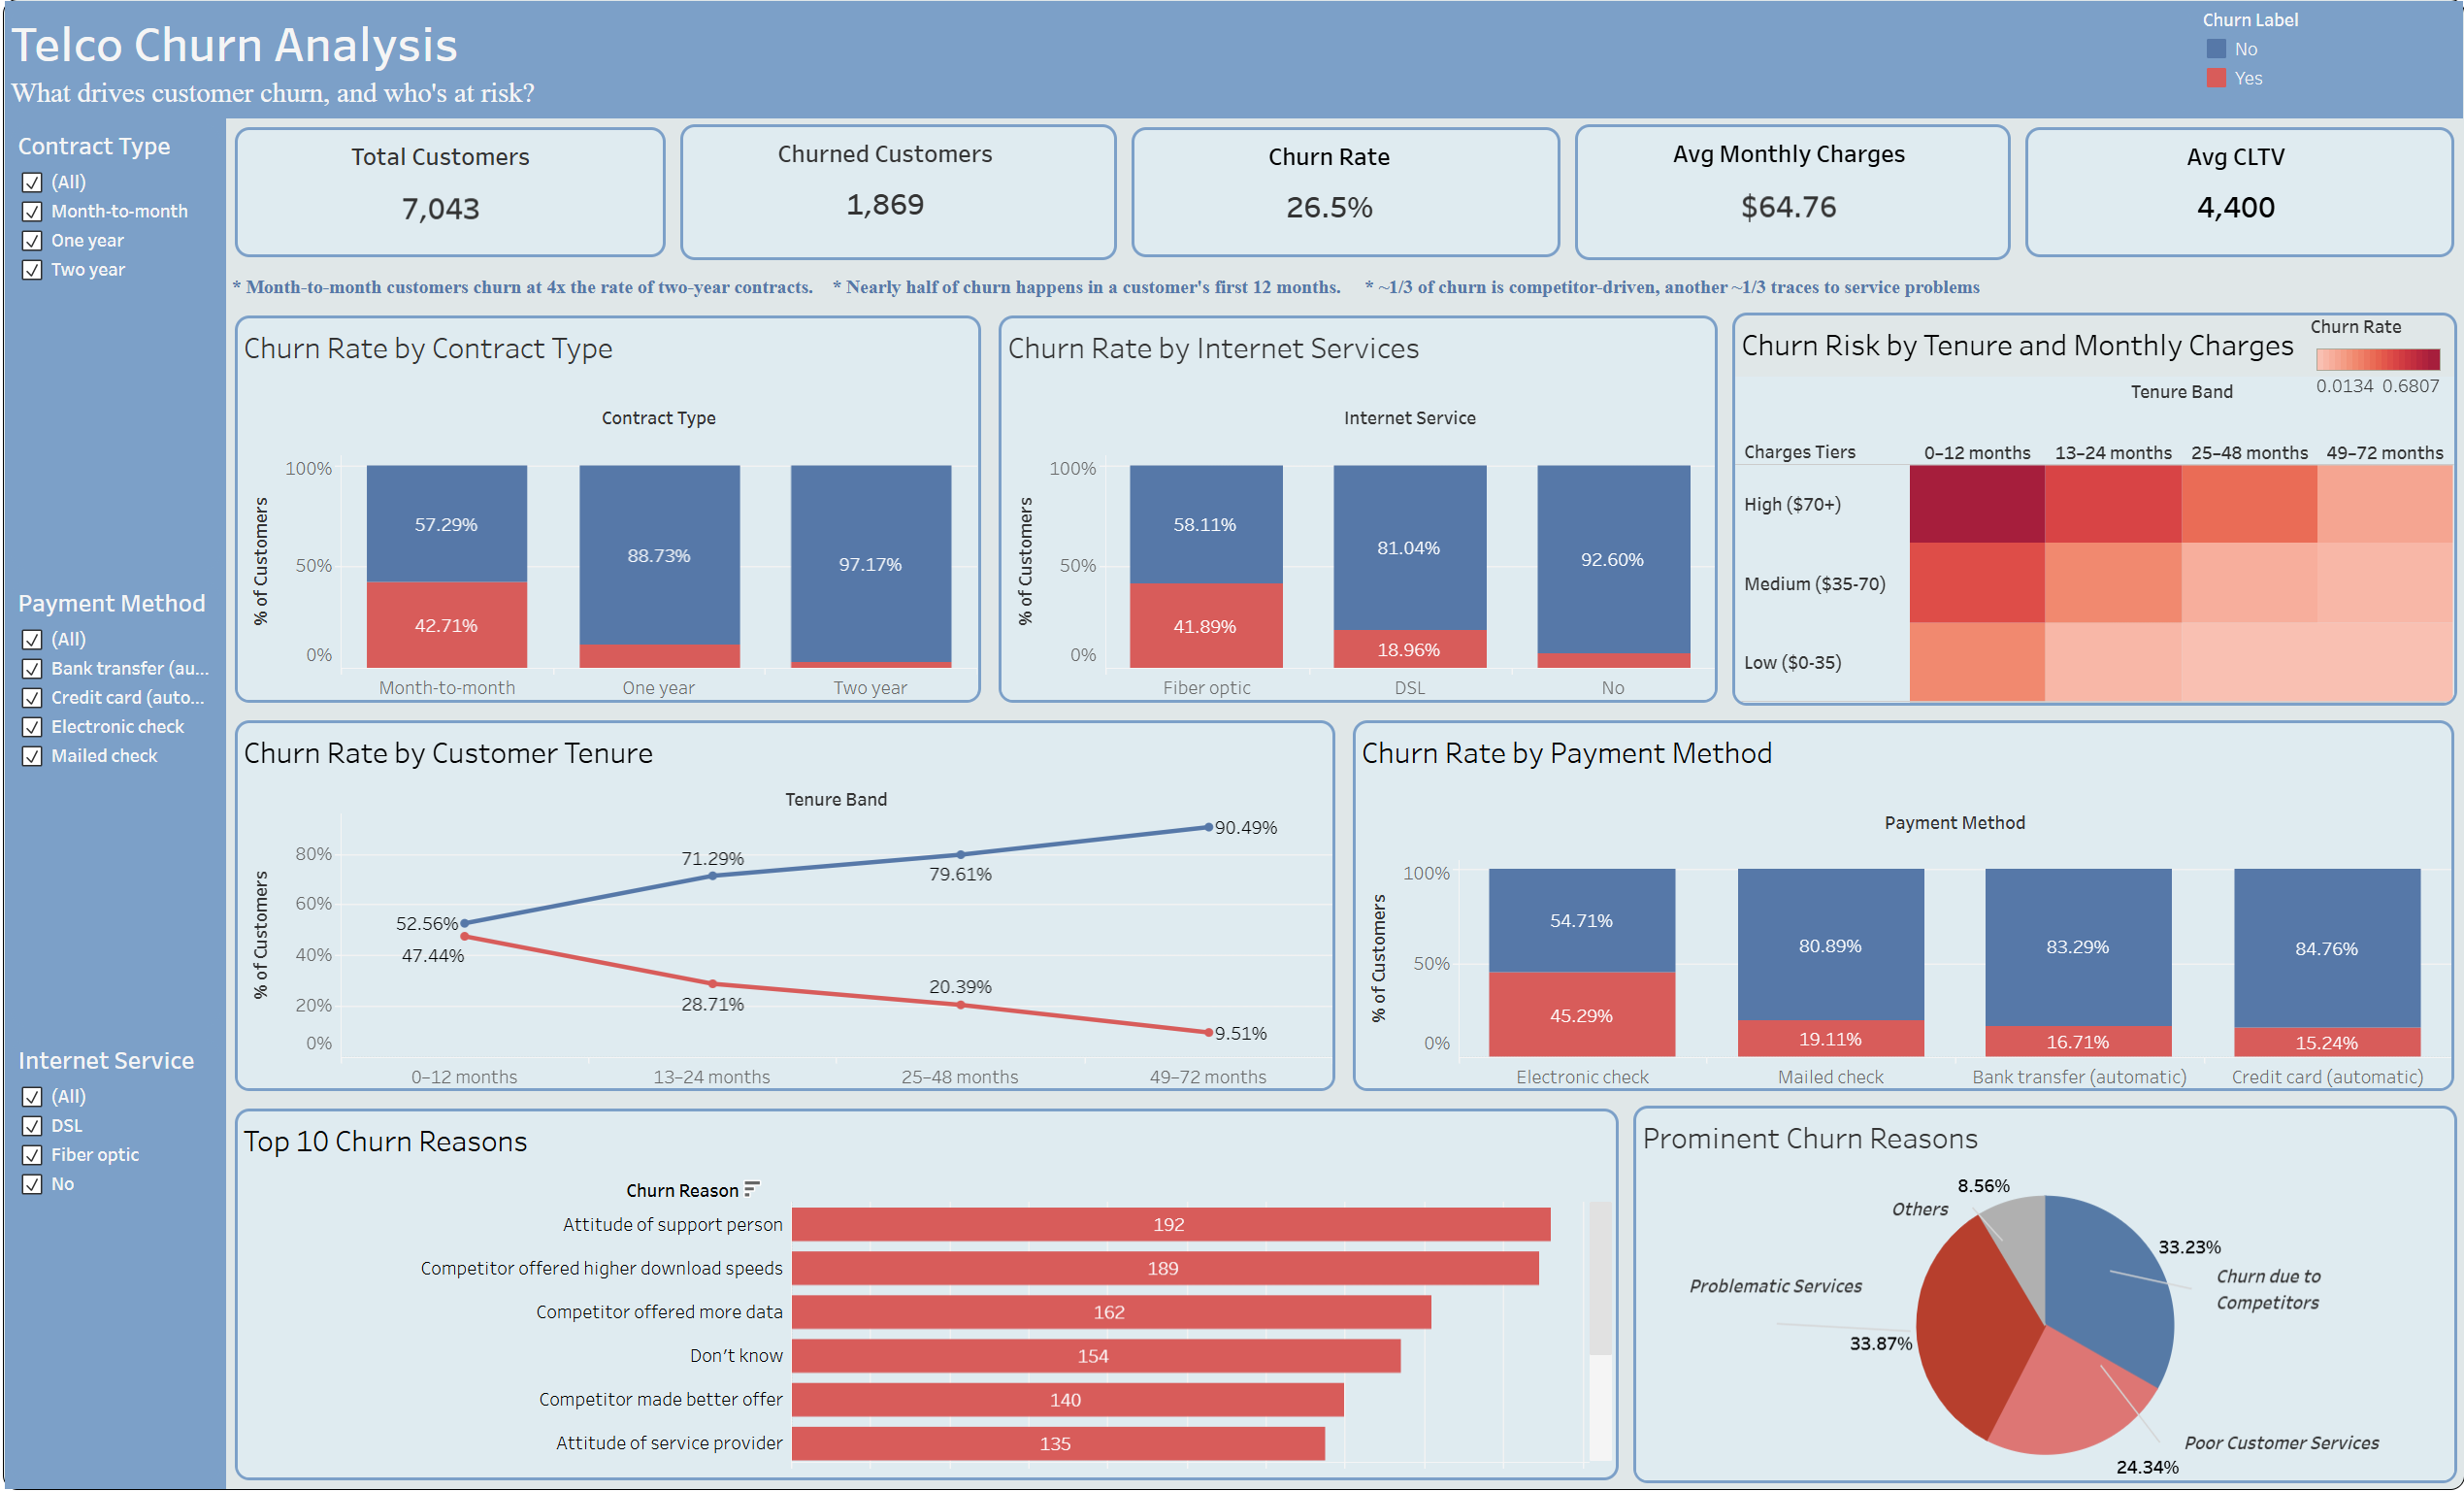

The dashboard page shown, as its layout file describes it:
{"tool":"powerbi","page":{"name":"Page 1","canvas":[1920,1080],"ordinal":0},"visuals":[{"type":"shape","box":[0,0,1918.6,116.5],"z":0},{"type":"hundredPercentStackedColumnChart","title":"Churn Rate by Contract Type","fields":{"Category":["telco_churn_clean.Contract"],"Series":["telco_churn_clean.Churn Label"],"Y":["CountNonNull(telco_churn_clean.CustomerID)"]},"box":[246.6,122.5,400.1,270],"z":1000},{"type":"hundredPercentStackedColumnChart","title":"Churn Rate by Internet Services","fields":{"Category":["telco_churn_clean.Internet Service"],"Series":["telco_churn_clean.Churn Label"],"Y":["CountNonNull(telco_churn_clean.CustomerID)"]},"box":[655,122.5,400,270],"z":2000},{"type":"hundredPercentStackedBarChart","title":"Churn Rate by Payment Method","fields":{"Category":["telco_churn_clean.Payment Method"],"Series":["telco_churn_clean.Churn Label"],"Y":["CountNonNull(telco_churn_clean.CustomerID)"]},"box":[1472,122.5,438.9,270],"z":3000},{"type":"lineChart","fields":{"Category":["telco_churn_clean.Tenure Band"],"Y":["telco_churn_clean.Churn Rate"]},"box":[246.9,773,527.2,301],"z":4000},{"type":"pivotTable","title":"Churn Risk by Tenure and Monthly Charges","fields":{"Columns":["telco_churn_clean.Tenure Band"],"Rows":["telco_churn_clean.Charges Tier"],"Values":["telco_churn_clean.Churn Rate"]},"box":[246.6,398,527.3,367.6],"z":5000},{"type":"clusteredColumnChart","title":"Churn Score Distribution by Outcome","fields":{"Category":["telco_churn_clean.Score Bucket"],"Series":["telco_churn_clean.Churn Label"],"Y":["CountNonNull(telco_churn_clean.CustomerID)"]},"box":[780,398,445,676.2],"z":8000},{"type":"keyDriversVisual","fields":{"ExplainBy":["telco_churn_clean.Contract","telco_churn_clean.Internet Service","telco_churn_clean.Payment Method","telco_churn_clean.Tenure Band","telco_churn_clean.Senior Citizen","telco_churn_clean.Partner","telco_churn_clean.Dependents","telco_churn_clean.Paperless Billing"],"Target":["telco_churn_clean.Churn Label"]},"box":[1234,398,676,676.2],"z":9000},{"type":"textbox","box":[13.9,0,1904.7,116.5],"z":12000},{"type":"cardVisual","title":"Revenue at Risk","fields":{"Data":["telco_churn_clean.Revenue at Risk"]},"box":[1442,8,263.7,100.2],"z":12125},{"type":"cardVisual","title":"High Risk Customers","fields":{"Data":["telco_churn_clean.High Risk Customers"]},"box":[1169,8,263.7,100.2],"z":12250},{"type":"cardVisual","title":"Churn Rate","fields":{"Data":["telco_churn_clean.Churn Rate"]},"box":[896,8,265.5,100.2],"z":12500},{"type":"slicer","fields":{"Values":["telco_churn_clean.Contract"]},"box":[0,116,235.6,283.1],"z":13000},{"type":"slicer","fields":{"Values":["telco_churn_clean.Payment Method"]},"box":[0,399.1,235.6,295.4],"z":14000},{"type":"slicer","fields":{"Values":["telco_churn_clean.Internet Service"]},"box":[0,694.5,235.6,385.1],"z":15000},{"type":"donutChart","title":"Churned Customers by Dependents","fields":{"Category":["telco_churn_clean.Dependents"],"Y":["CountNonNull(telco_churn_clean.CustomerID)"]},"box":[1064,121,400,270],"z":16000},{"type":"cardVisual","title":"Total Customers","fields":{"Data":["CountNonNull(telco_churn_clean.CustomerID)"]},"box":[624.2,8,263.7,100.2],"z":16500},{"type":"textbox","box":[1718.7,32.5,192,75.7],"z":16501}]}

Visuals, with their boxes on the page's 1920x1080 design canvas (x1, y1, x2, y2). These are canvas units, not pixel positions in the 2464x1491 screenshot, which may show the page scaled, cropped or inside an application window:
shape: (left=0, top=0, right=1919, bottom=116)
"Churn Rate by Contract Type" hundredPercentStackedColumnChart: (left=247, top=122, right=647, bottom=392)
"Churn Rate by Internet Services" hundredPercentStackedColumnChart: (left=655, top=122, right=1055, bottom=392)
"Churn Rate by Payment Method" hundredPercentStackedBarChart: (left=1472, top=122, right=1911, bottom=392)
lineChart - telco_churn_clean.Tenure Band x telco_churn_clean.Churn Rate: (left=247, top=773, right=774, bottom=1074)
"Churn Risk by Tenure and Monthly Charges" pivotTable: (left=247, top=398, right=774, bottom=766)
"Churn Score Distribution by Outcome" clusteredColumnChart: (left=780, top=398, right=1225, bottom=1074)
keyDriversVisual - telco_churn_clean.Contract x telco_churn_clean.Internet Service: (left=1234, top=398, right=1910, bottom=1074)
textbox: (left=14, top=0, right=1919, bottom=116)
"Revenue at Risk" cardVisual: (left=1442, top=8, right=1706, bottom=108)
"High Risk Customers" cardVisual: (left=1169, top=8, right=1433, bottom=108)
"Churn Rate" cardVisual: (left=896, top=8, right=1162, bottom=108)
slicer - telco_churn_clean.Contract: (left=0, top=116, right=236, bottom=399)
slicer - telco_churn_clean.Payment Method: (left=0, top=399, right=236, bottom=694)
slicer - telco_churn_clean.Internet Service: (left=0, top=694, right=236, bottom=1080)
"Churned Customers by Dependents" donutChart: (left=1064, top=121, right=1464, bottom=391)
"Total Customers" cardVisual: (left=624, top=8, right=888, bottom=108)
textbox: (left=1719, top=32, right=1911, bottom=108)
